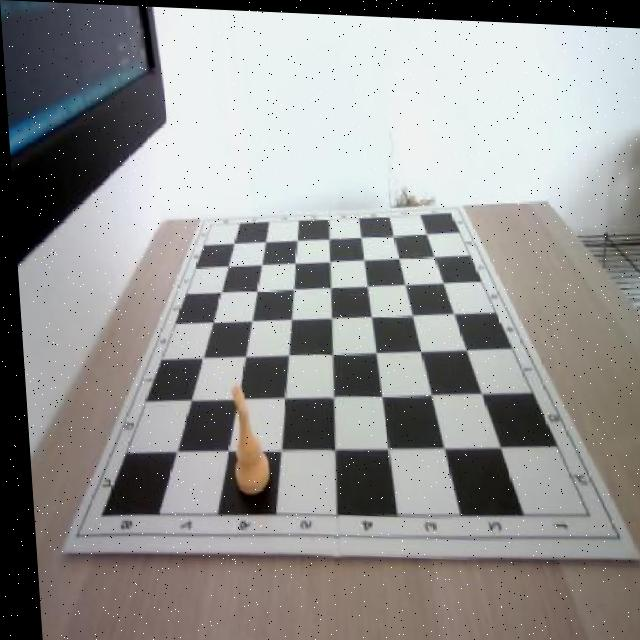white-king: (222, 381, 265, 497)
